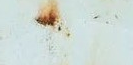Corrosion: (33, 1, 61, 27)
